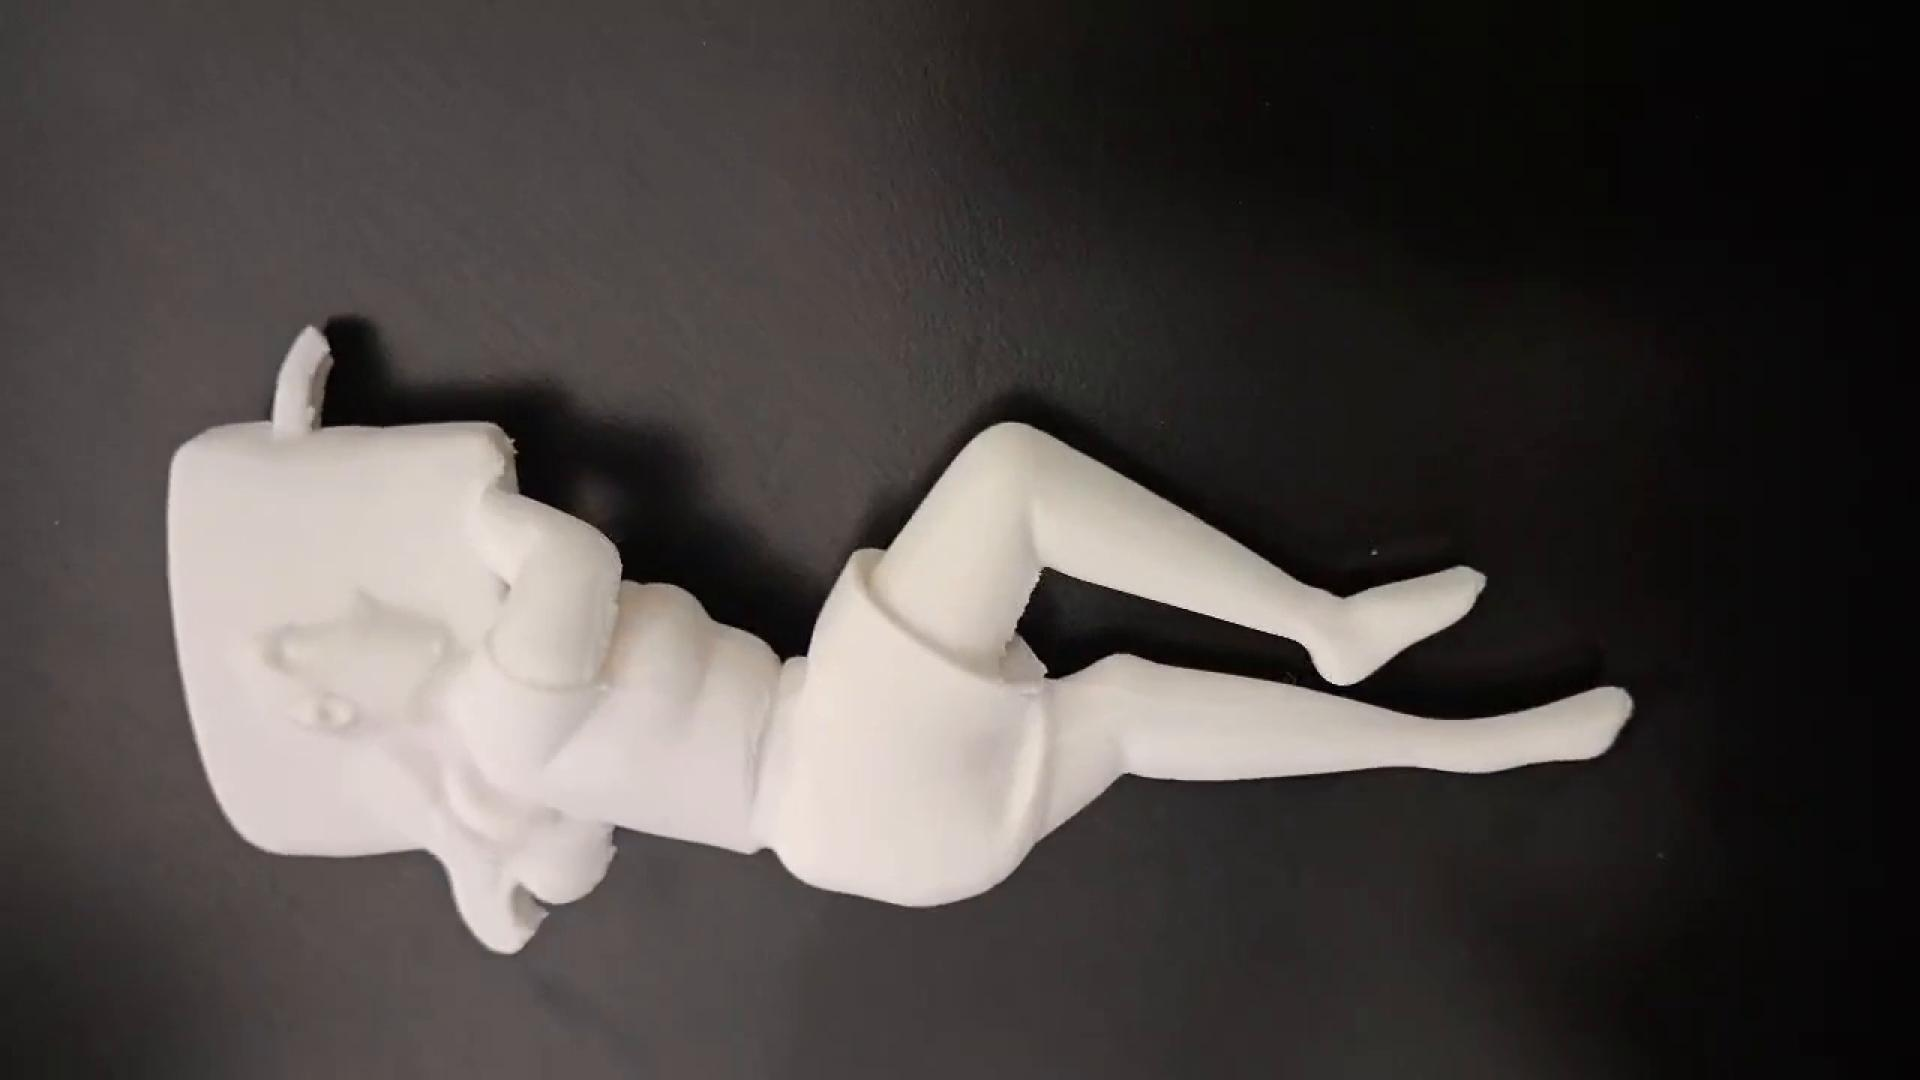Good-style: (92, 314, 1665, 980)
